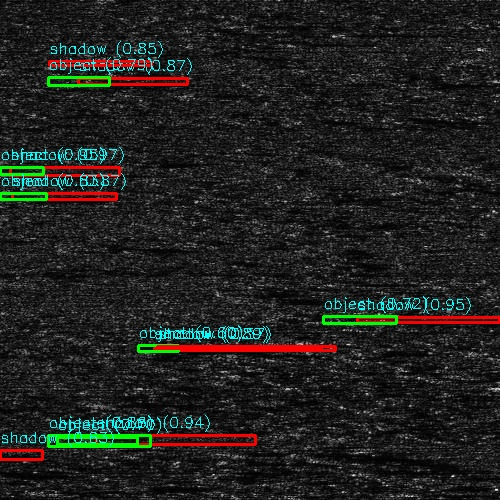rock: (39, 434, 164, 445), (39, 77, 122, 86), (0, 193, 67, 200), (0, 168, 30, 175), (472, 383, 500, 390), (27, 63, 68, 66), (249, 297, 290, 300), (156, 347, 177, 352), (86, 399, 97, 408)
shadow: (102, 434, 243, 445), (81, 77, 186, 86), (0, 168, 129, 175), (167, 347, 341, 352), (21, 193, 119, 200), (92, 399, 161, 408), (352, 318, 500, 321), (48, 63, 152, 66), (270, 297, 342, 300)
